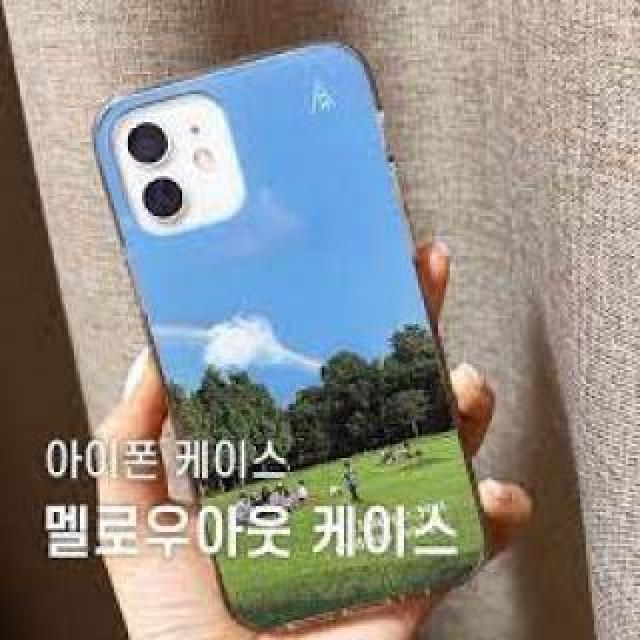smart phone: (68, 35, 498, 640)
